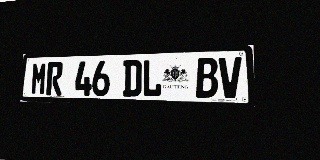4: (74, 61, 93, 96)
6: (92, 60, 110, 96)
B: (196, 58, 218, 98)
D: (122, 60, 142, 97)
L: (142, 59, 162, 97)
M: (30, 62, 47, 95)
R: (46, 62, 63, 95)
V: (219, 57, 242, 98)
